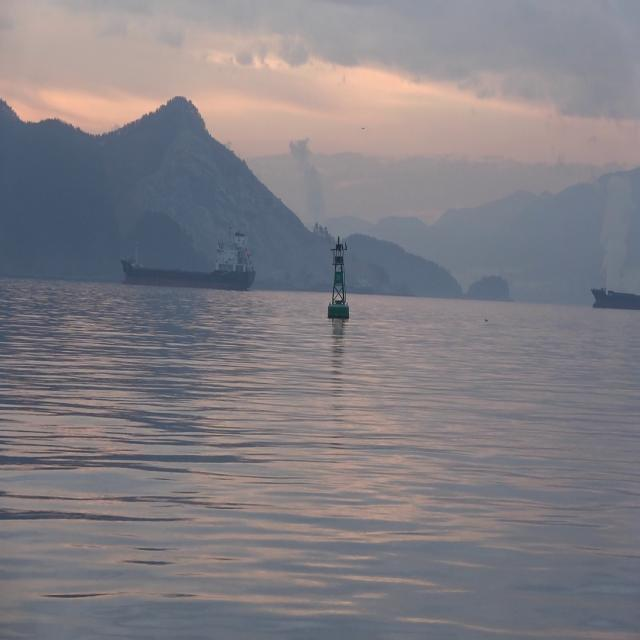ship: (120, 218, 255, 288)
